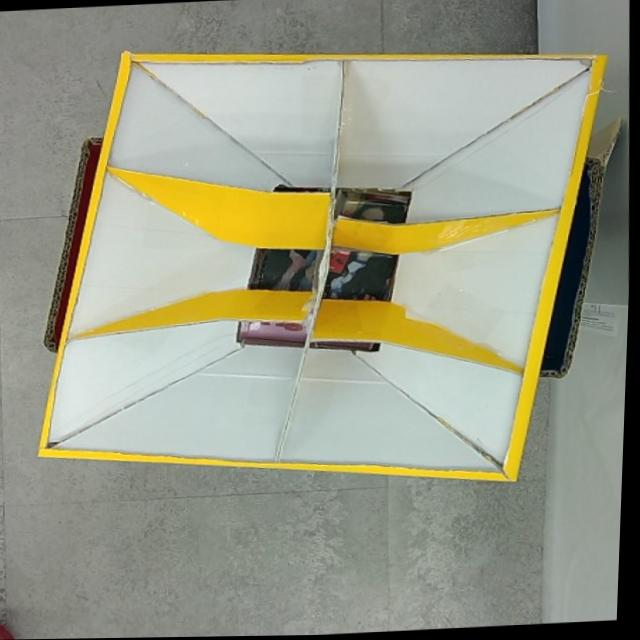box: (23, 29, 633, 507)
